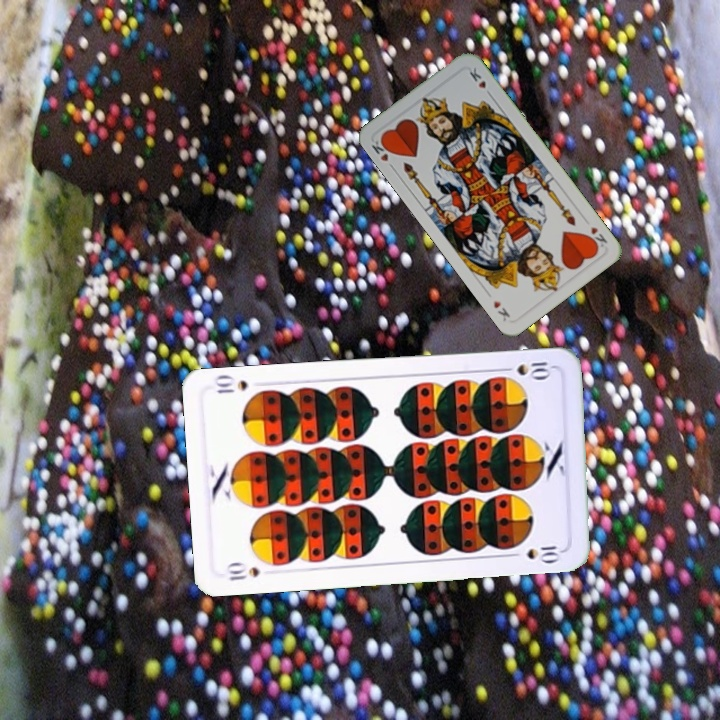HK: (367, 134, 395, 164), (584, 222, 610, 253)
S10: (496, 357, 553, 381), (222, 559, 263, 583)
